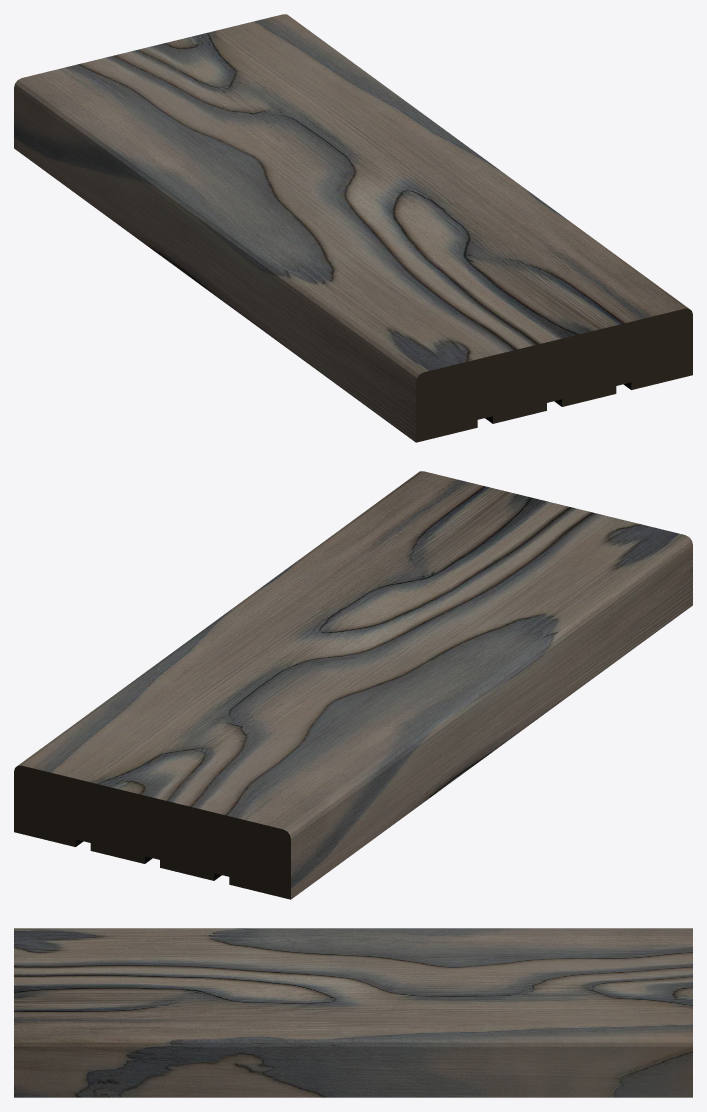
Rendered from larch-terrace-latte.glb.
The picture shows the model from 3 angles, top to bottom: view 1: azimuth 30°, elevation 25°; view 2: azimuth 150°, elevation 25°; view 3: azimuth 270°, elevation 25°; orthographic projection. The views are drawn at different scales.
Parts seen in each view (by area): view 1: Staciakampis; view 2: Staciakampis; view 3: Staciakampis.
Part boxes in pixels (x1,y1,x2,y2): Staciakampis: (14,14,692,442); Staciakampis: (14,471,692,899); Staciakampis: (14,928,692,1097).
Size of the model in its own units: 0.0733 by 0.0173 by 0.1843.
3 materials, 1 textured.
